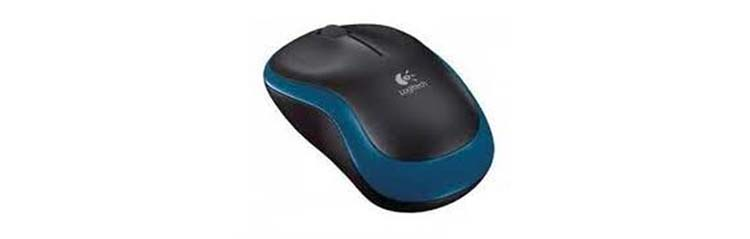logitech-mouse-m185: (264, 23, 499, 212)
